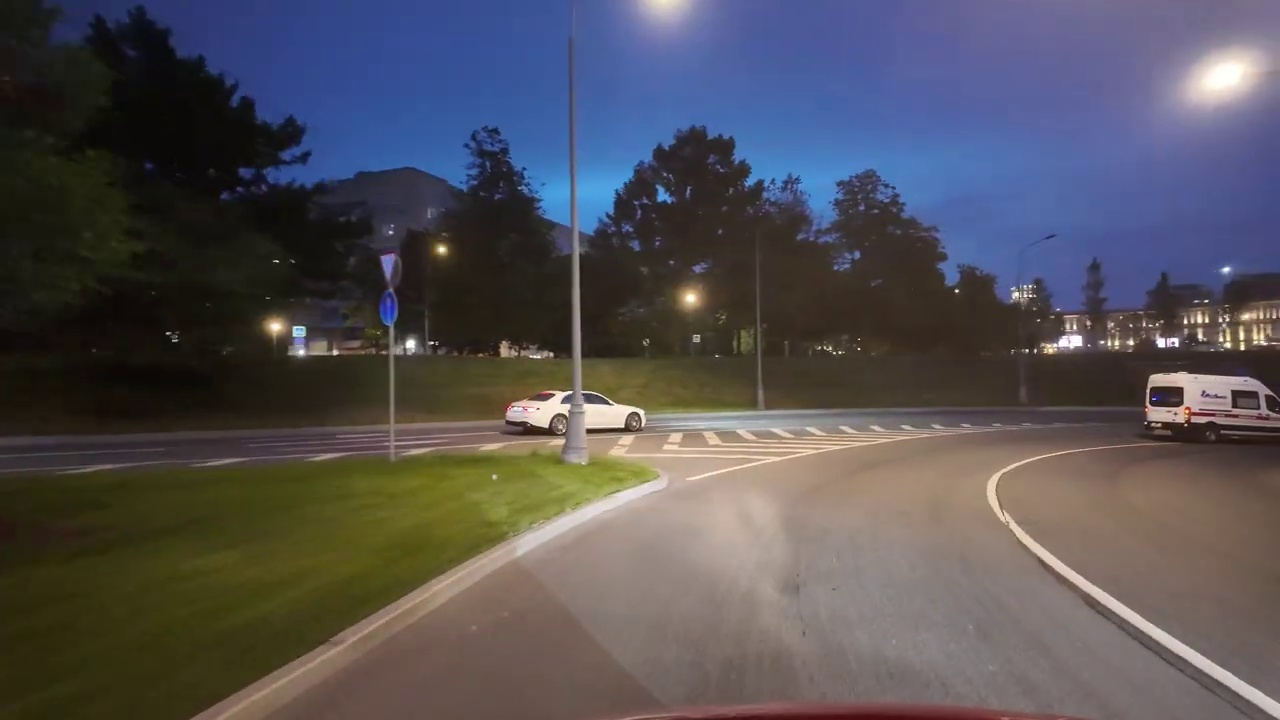acesa: (1198, 54, 1252, 98), (675, 285, 705, 313), (429, 239, 454, 262)
